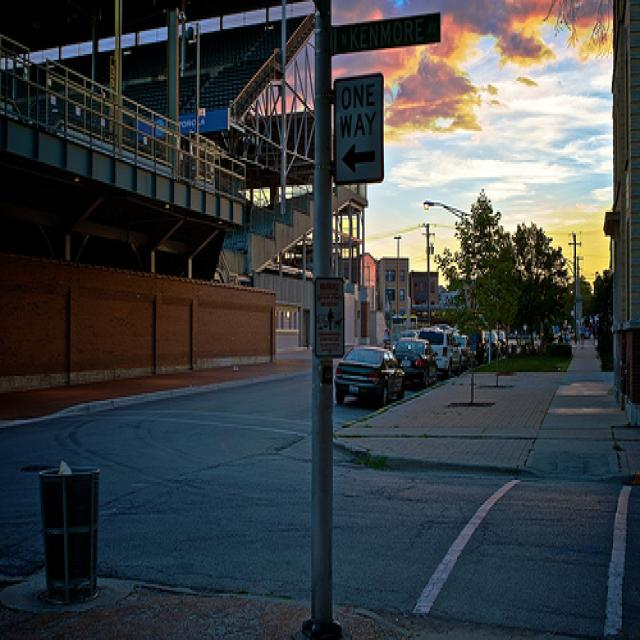Vehicle: (334, 344, 406, 406), (416, 327, 462, 380), (392, 338, 438, 388), (481, 328, 502, 362), (456, 337, 471, 371), (498, 329, 508, 357)
